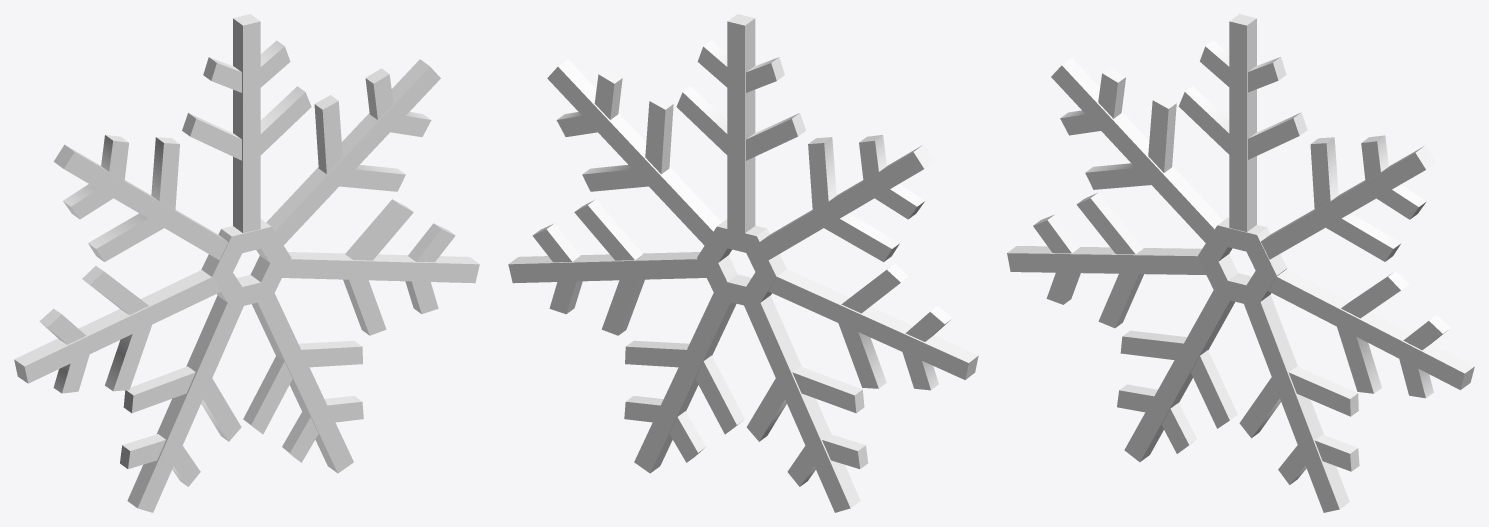
The model's file is snow.fbx.
3 views of the same model, side by side, from view 1: azimuth 30°, elevation 25°; view 2: azimuth 150°, elevation 25°; view 3: azimuth 330°, elevation 25° (orthographic).
Parts seen in each view (by area): view 1: NGon001; view 2: NGon001; view 3: NGon001.
Boxes of the visible parts, x1,y1,x2,y2 form: NGon001: (14, 14, 479, 512); NGon001: (508, 14, 978, 512); NGon001: (1007, 14, 1474, 512).
Bounding box in the file's own units: 71.61 × 70.36 × 3.44.
